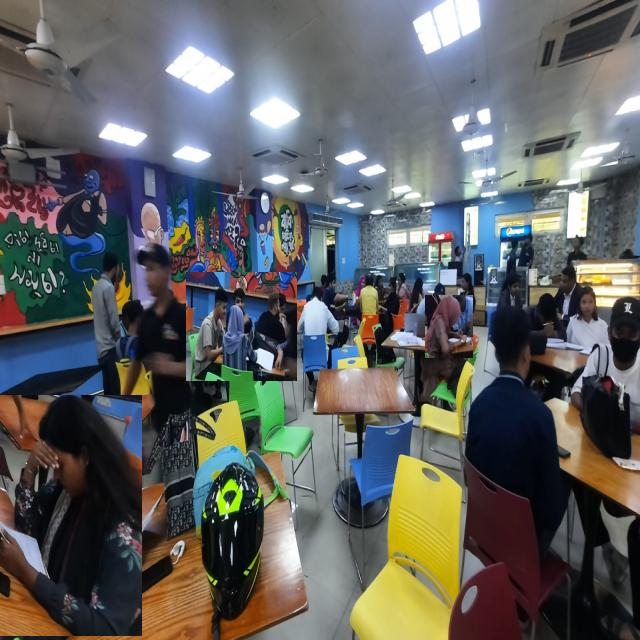group-studying: (186, 272, 297, 381), (425, 295, 473, 358)
self-studying: (0, 395, 142, 636)
